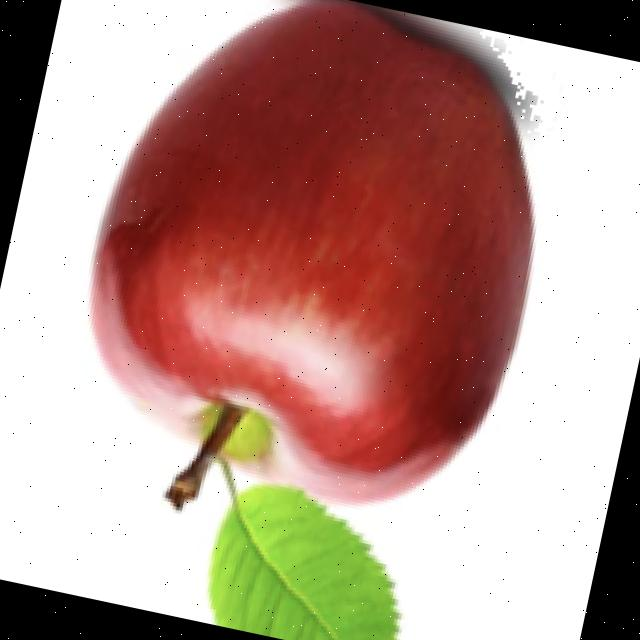apple: (82, 0, 544, 640)
